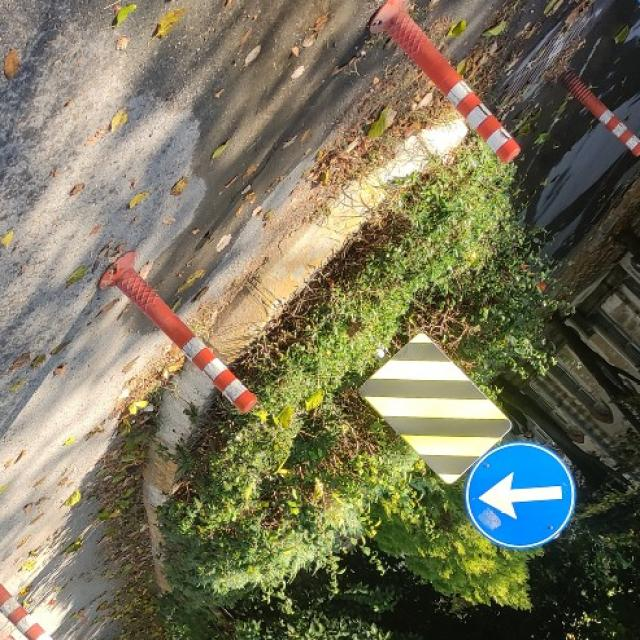Turn Left: (463, 441, 574, 552)
